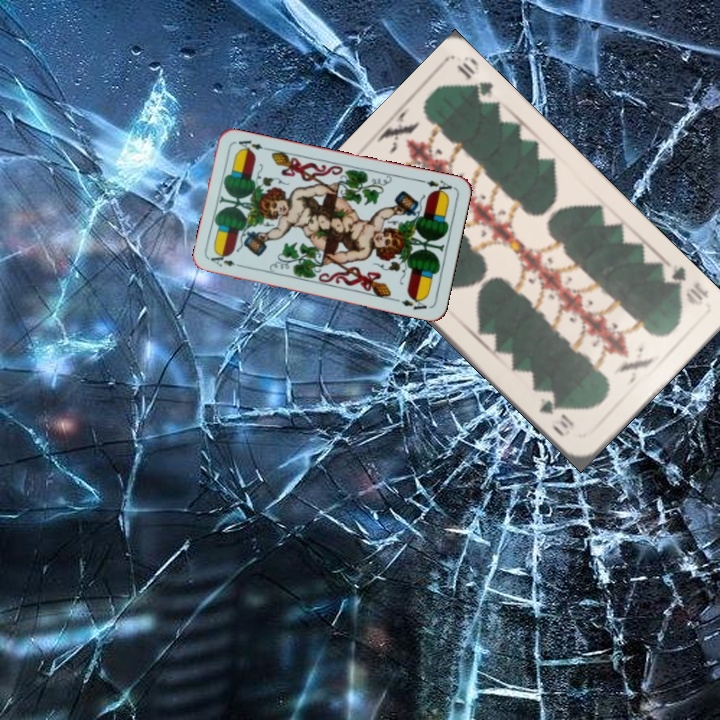EA: (416, 176, 456, 197), (207, 252, 247, 270)
G10: (658, 260, 711, 309)
